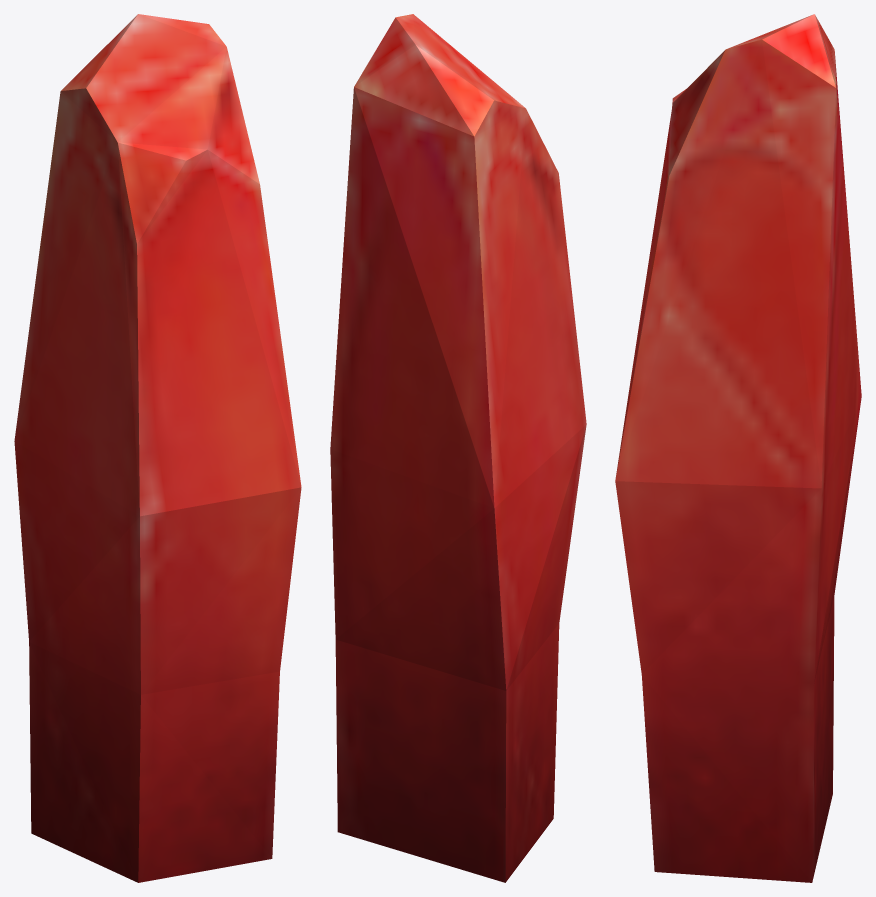
Rendered from ruby_1.FBX.
3 views of the same model, side by side, from view 1: azimuth 30°, elevation 25°; view 2: azimuth 150°, elevation 25°; view 3: azimuth 270°, elevation 25° (orthographic). The views are drawn at different scales.
Parts seen in each view (by area): view 1: Object002; view 2: Object002; view 3: Object002.
Boxes of the visible parts, x1,y1,x2,y2 form: Object002: (14, 14, 301, 882); Object002: (330, 14, 586, 882); Object002: (615, 14, 861, 882).
Bounding box in the file's own units: 16.54 × 69.47 × 18.71.
